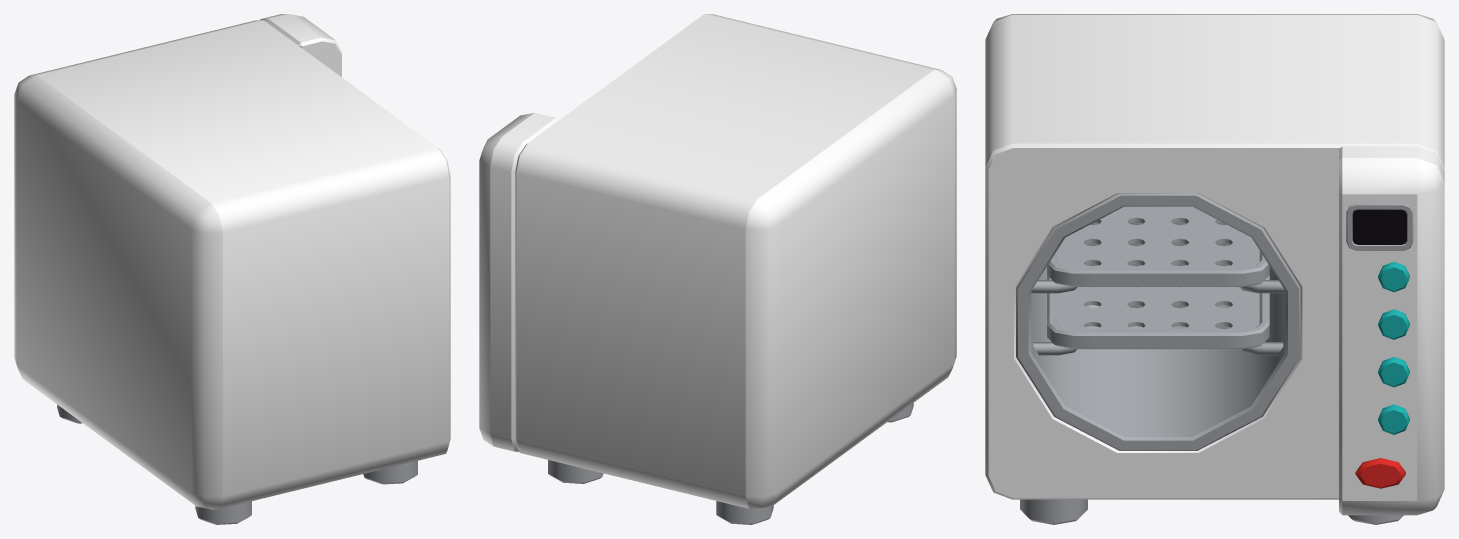
The model's file is Autoclave.fbx.
The picture shows the model from 3 angles, left to right: view 1: azimuth 30°, elevation 25°; view 2: azimuth 150°, elevation 25°; view 3: azimuth 270°, elevation 25°; orthographic projection. The views are drawn at different scales.
Parts seen in each view (by area): view 1: Autoclave; view 2: Autoclave; view 3: Autoclave.
Part boxes in pixels (x1,y1,x2,y2): Autoclave: (14,14,450,524); Autoclave: (479,14,956,524); Autoclave: (985,14,1444,524).
Bounding box in the file's own units: 0.3055 × 0.3245 × 0.3503.
